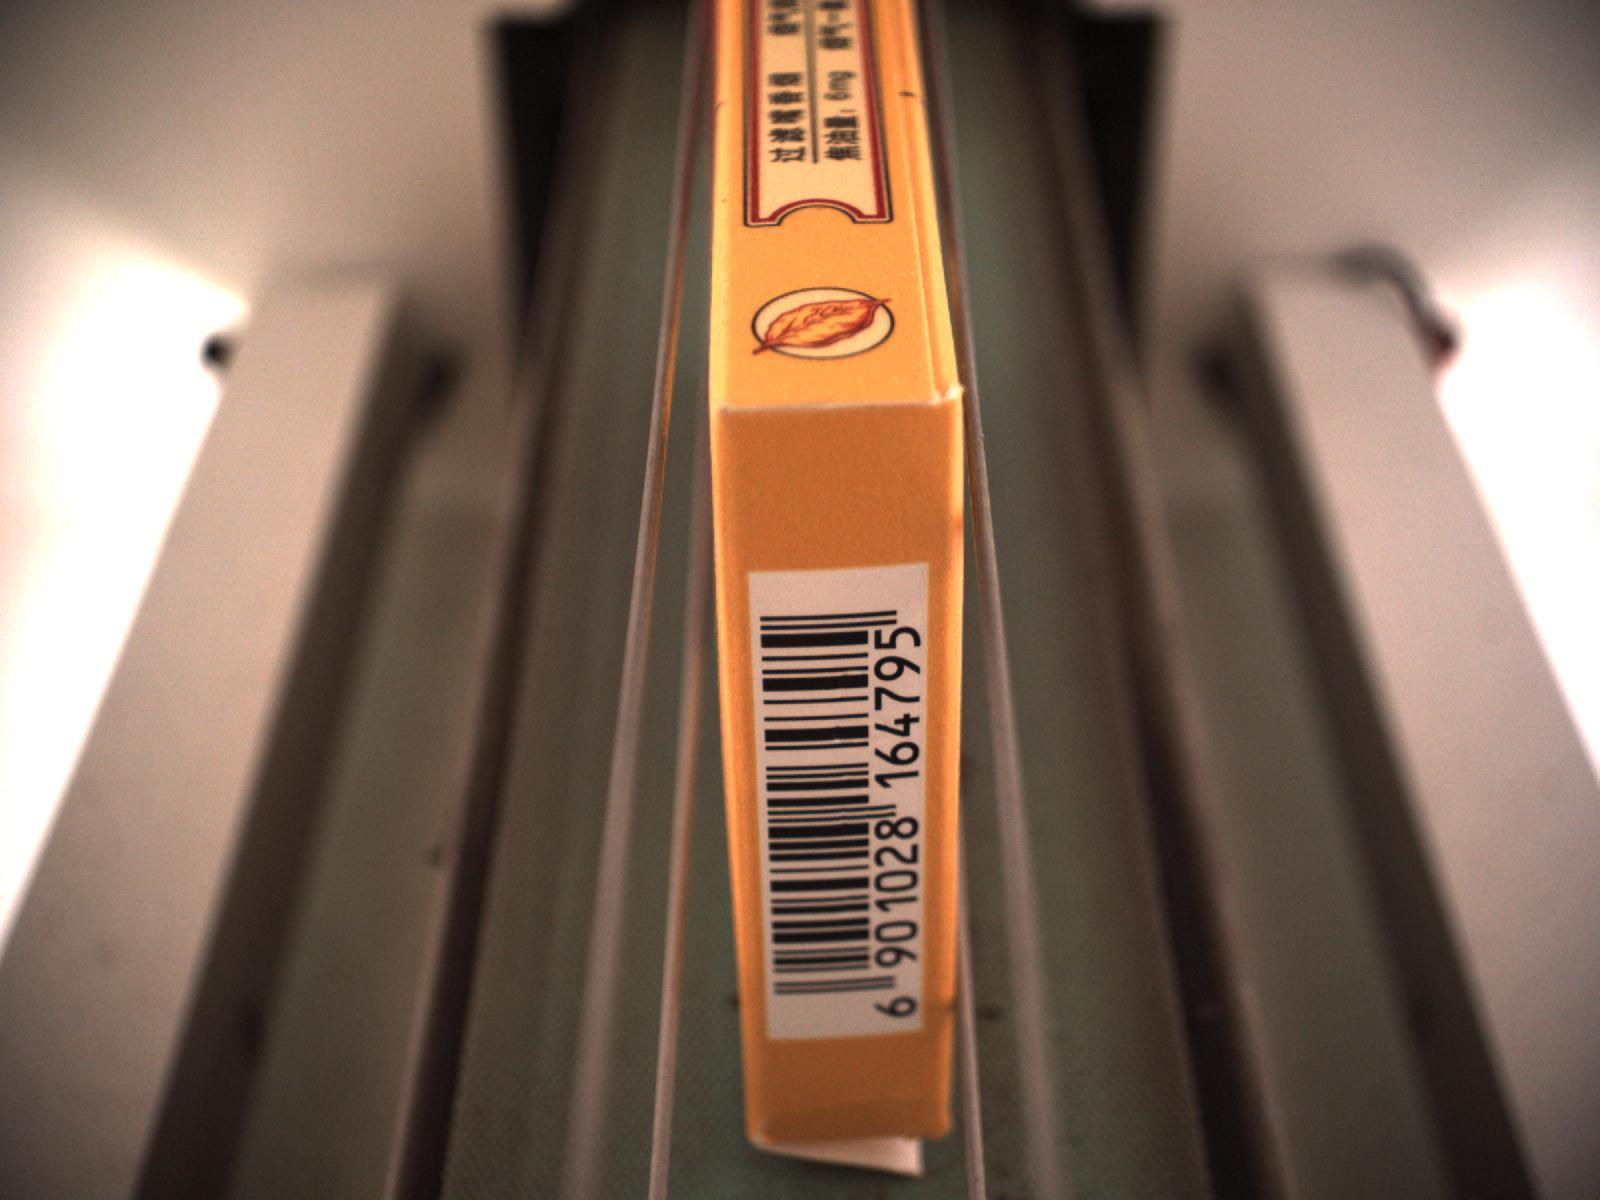skewed_bottom_3: (750, 1122, 952, 1181)
skewed_upper_3: (883, 3, 961, 413)
